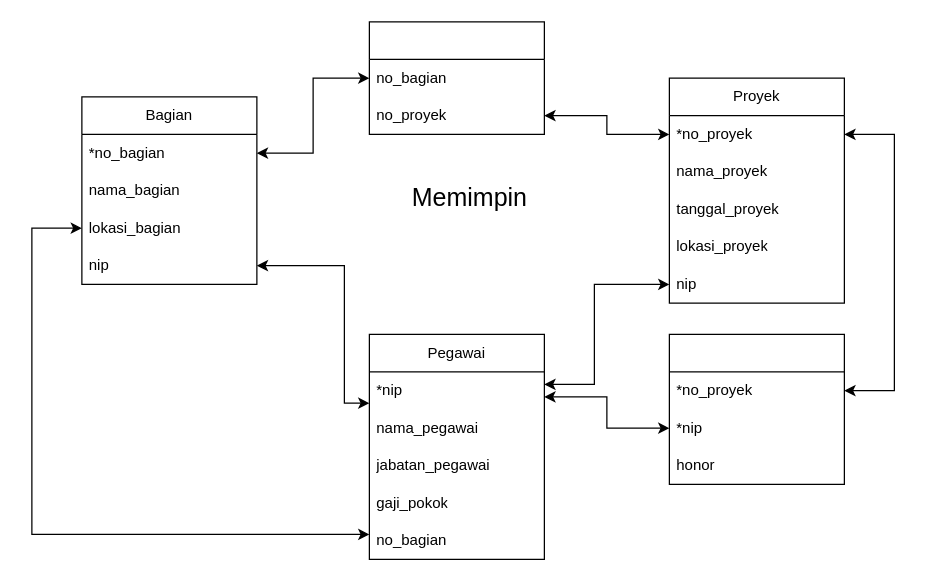
This 928x581 diagram has some shape labels left out. The shapes that lost their labels are listed below. From the top down, each one's box as (x1, y1, x2, y2) in pixels, then its label:
(368, 21, 544, 134): Menangani
(668, 333, 844, 484): Dikerjakan
